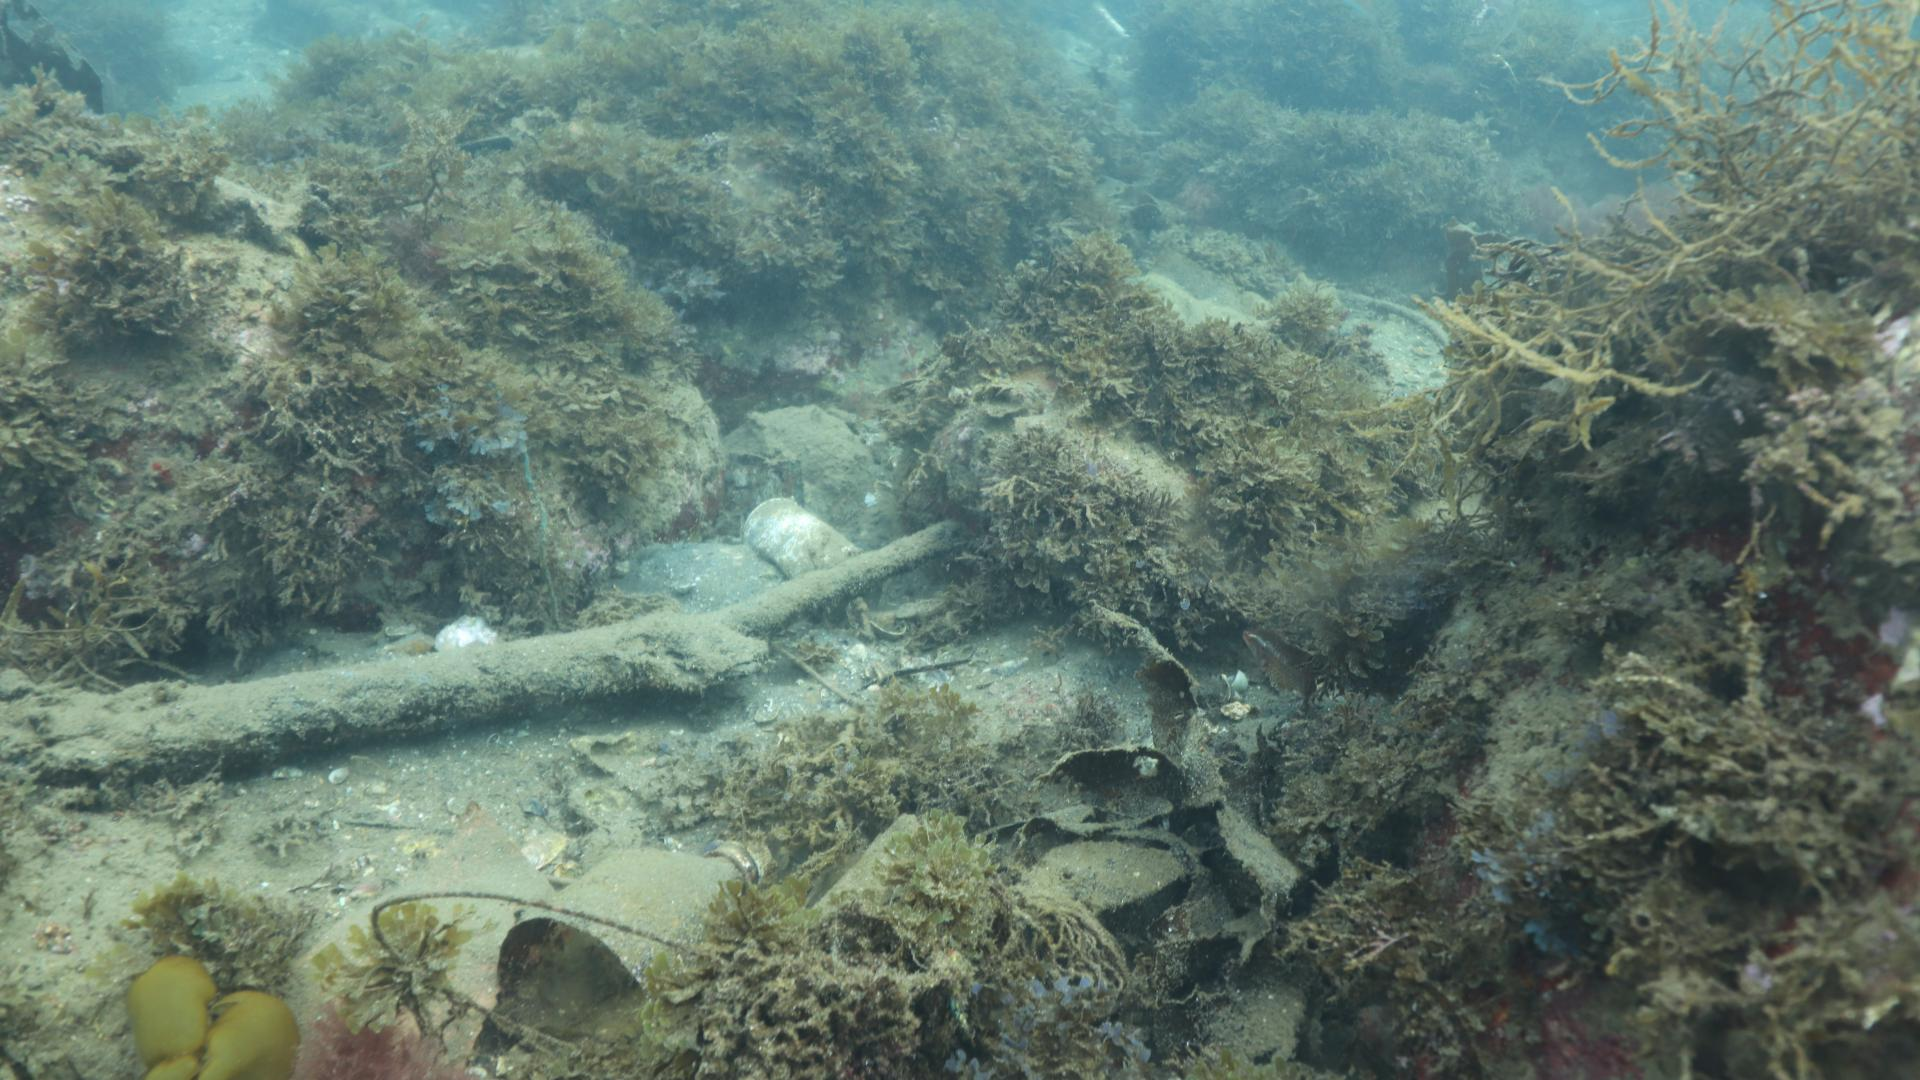wood: (36, 520, 956, 771)
